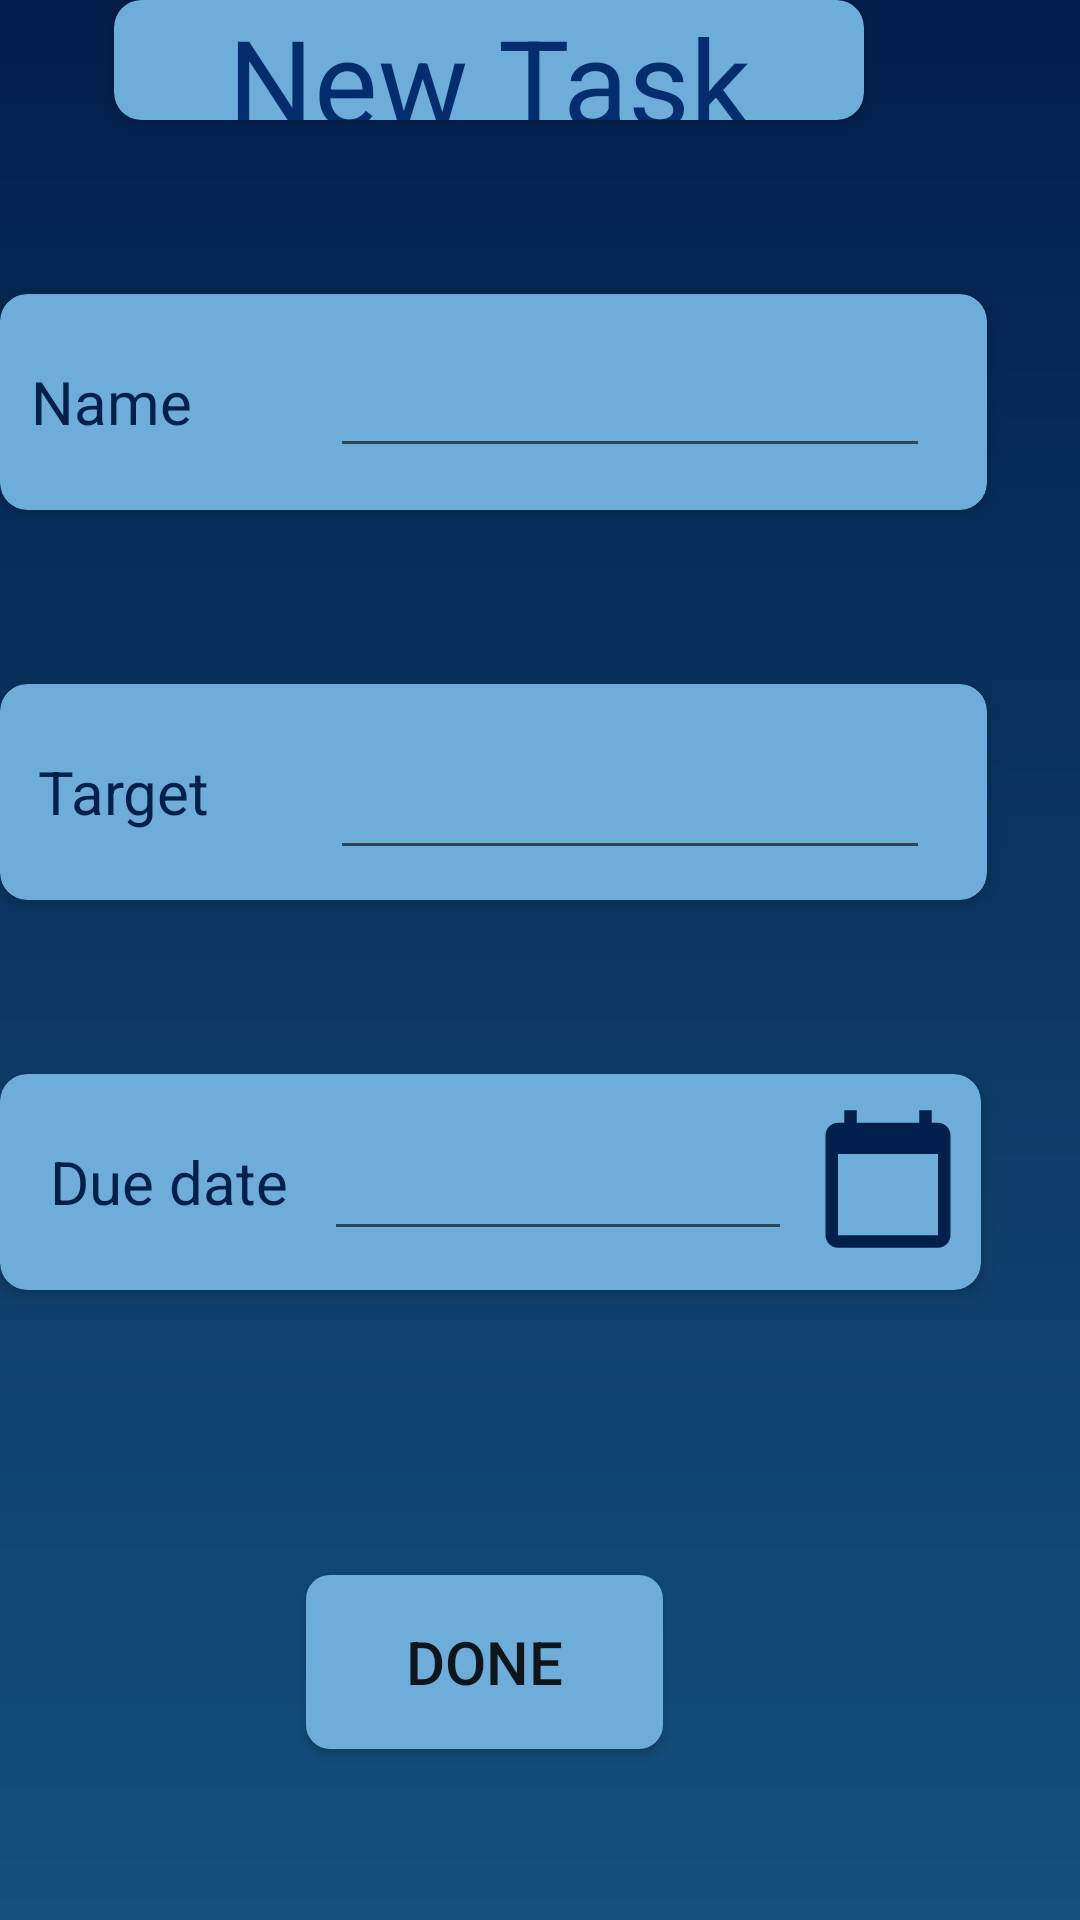

Icons on this 1080 x 1920 Android screen, each with the point to tap as [x,y]:
calendar today: [888,1179]
